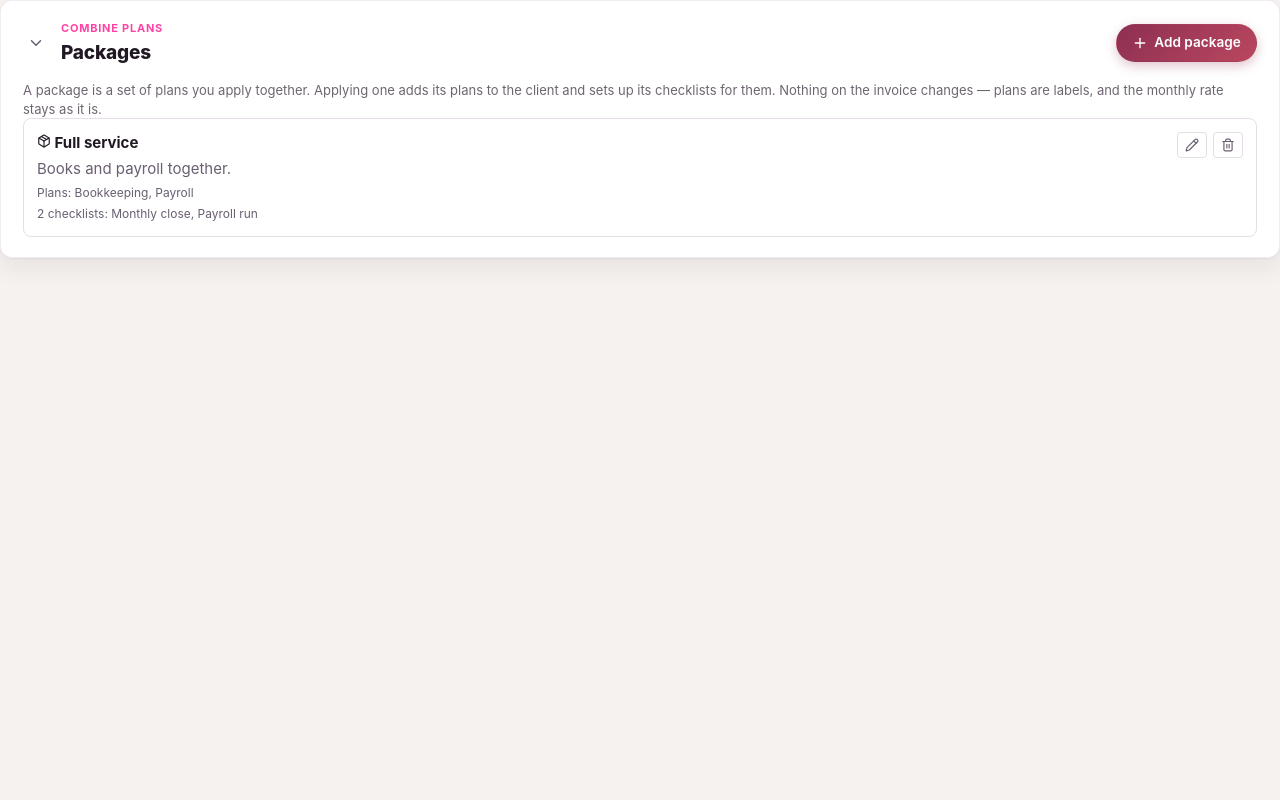
"Suggest checklists" in the package editor › says plainly that it creates nothing on its own
Step 1. Click the button named "Edit Full service" → [1192, 145], box [1177,132,1207,158]
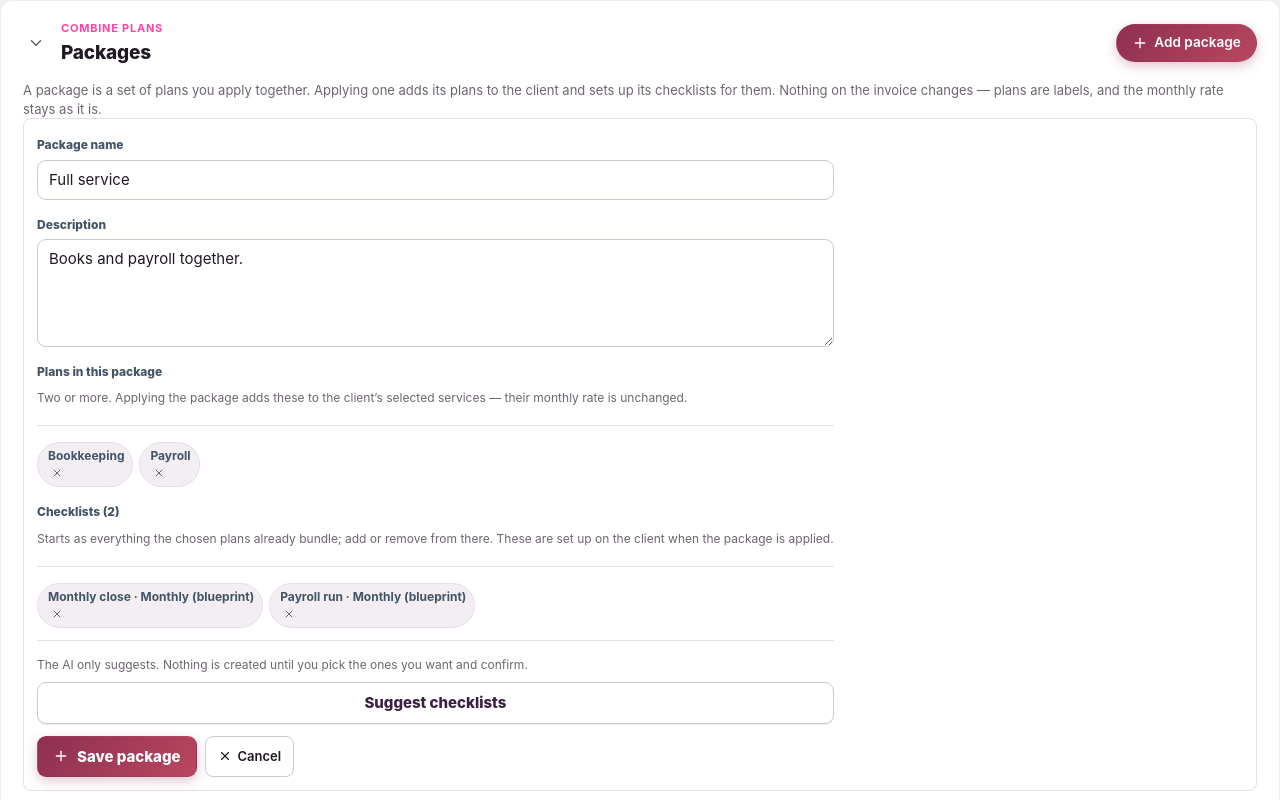
Now the text "The AI only suggests. Nothing is created until you pick the ones you want and confirm." is shown, box [37,657,528,672]
